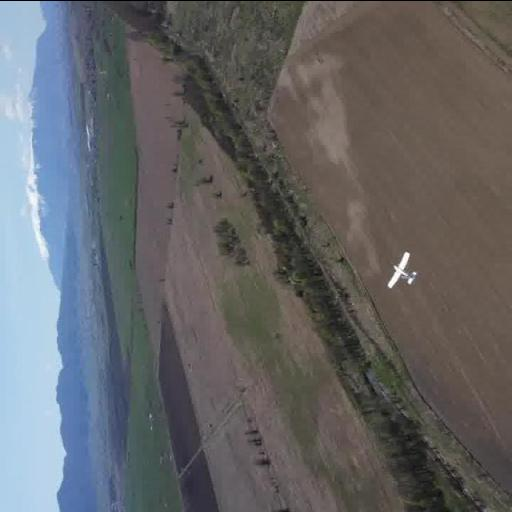uav: (380, 248, 424, 290)
